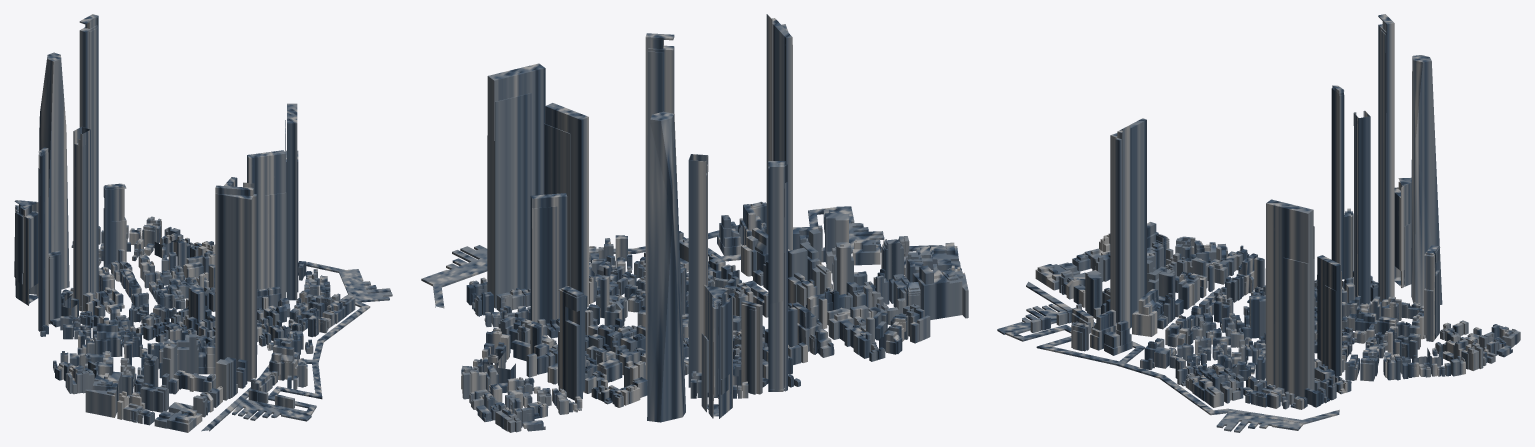
Rendered from Buildings_Close_2.glb.
The picture shows the model from 3 angles, left to right: view 1: azimuth 30°, elevation 25°; view 2: azimuth 150°, elevation 25°; view 3: azimuth 270°, elevation 25°; orthographic projection. The views are drawn at different scales.
Parts seen in each view (by area): view 1: world; view 2: world; view 3: world.
Part boxes in pixels (x1,y1,x2,y2): world: (14,14,392,432); world: (421,14,968,432); world: (997,14,1520,432).
Size of the model in its own units: 128231 by 95969 by 154929.
1 material, 1 textured.
